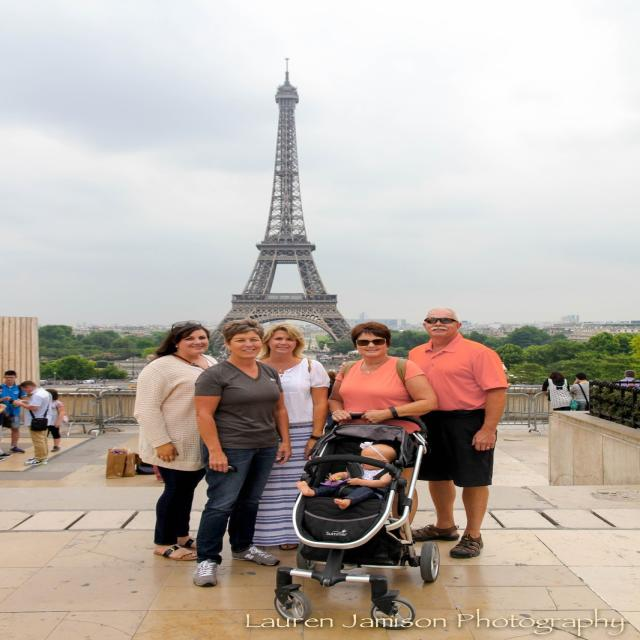body: (189, 317, 296, 589), (402, 305, 512, 560), (326, 322, 440, 540), (129, 319, 222, 562), (252, 322, 332, 552), (294, 440, 400, 511), (10, 379, 54, 467), (0, 370, 28, 454), (540, 370, 580, 412), (302, 338, 348, 370), (45, 388, 65, 452), (36, 378, 138, 388), (568, 372, 590, 410), (0, 384, 11, 460), (615, 369, 640, 388)
